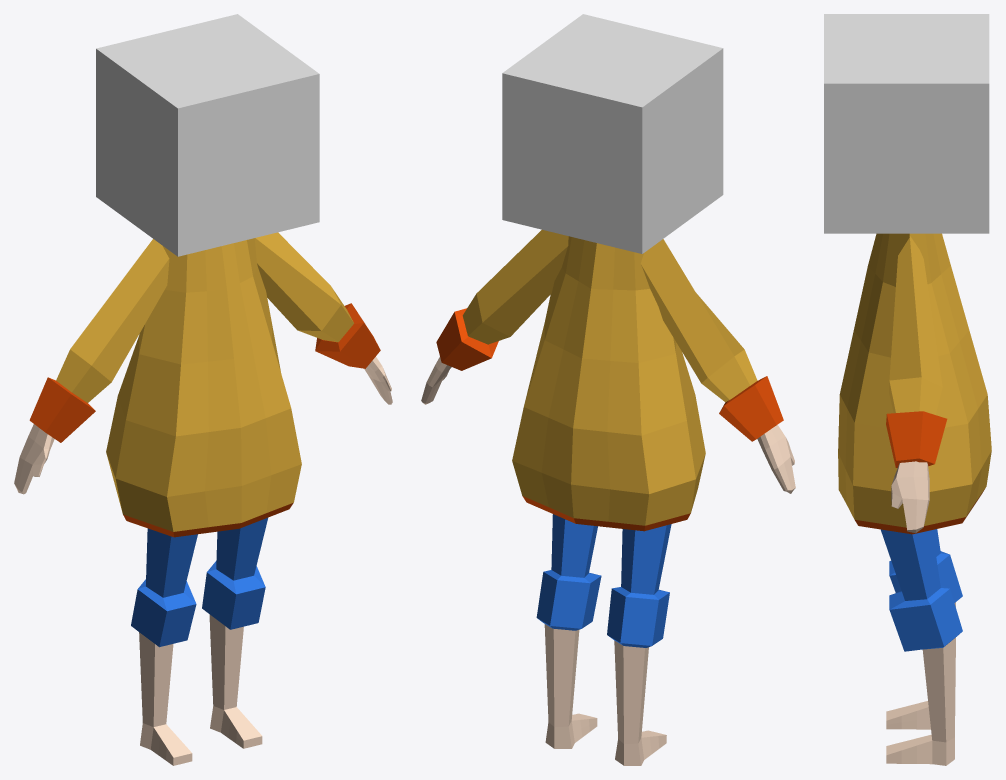
The model's file is Girl.PreMeld.fbx.
3 views of the same model, side by side, from view 1: azimuth 30°, elevation 25°; view 2: azimuth 150°, elevation 25°; view 3: azimuth 270°, elevation 25° (orthographic). The views are drawn at different scales.
Parts seen in each view (by area): view 1: Cube.001, Cube, Cylinder.001, Cylinder; view 2: Cube.001, Cube, Cylinder.001, Cylinder; view 3: Cube.001, Cube, Cylinder, Cylinder.001.
Boxes of the visible parts, x1=… form: Cube.001: x1=96, y1=14, x2=319, y2=256; Cube: x1=106, y1=238, x2=301, y2=537; Cylinder.001: x1=14, y1=232, x2=392, y2=494; Cylinder: x1=131, y1=517, x2=267, y2=765; Cube.001: x1=502, y1=14, x2=723, y2=253; Cube: x1=512, y1=236, x2=705, y2=531; Cylinder.001: x1=421, y1=229, x2=795, y2=493; Cylinder: x1=536, y1=514, x2=671, y2=765; Cube.001: x1=824, y1=14, x2=989, y2=233; Cube: x1=838, y1=233, x2=991, y2=534; Cylinder: x1=880, y1=529, x2=962, y2=765; Cylinder.001: x1=886, y1=236, x2=947, y2=533.
Bounding box in the file's own units: 216 × 382 × 83.8.
